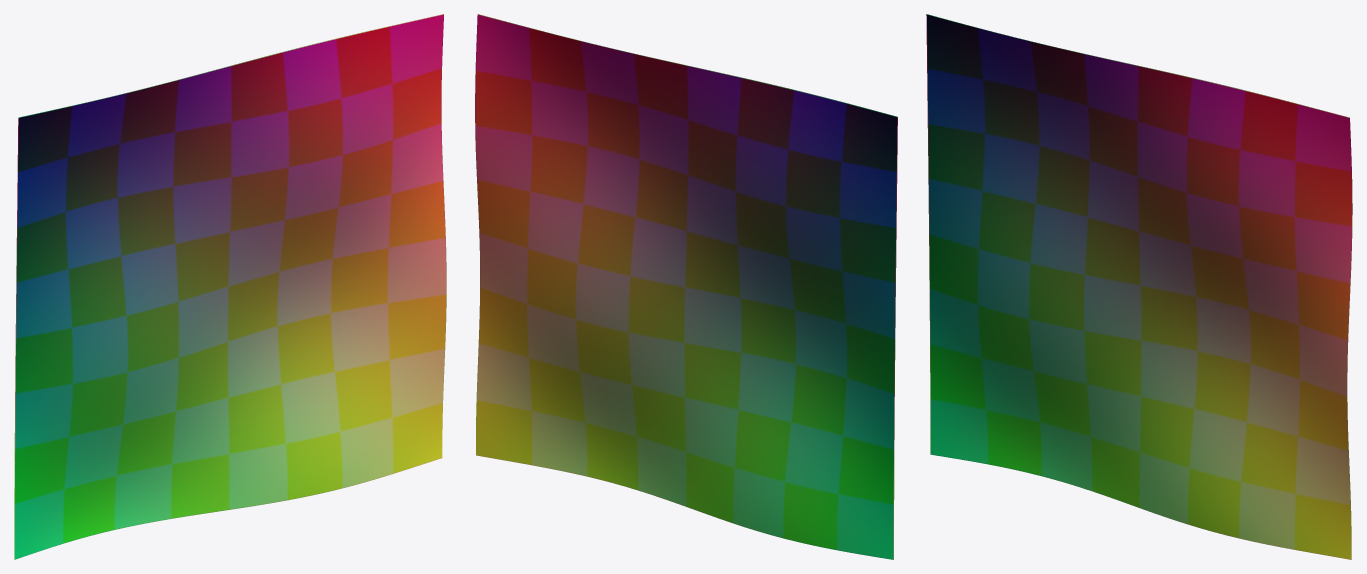
The model's file is Tile_+000_+016.obj.
3 renders of one model, left to right at view 1: azimuth 30°, elevation 25°; view 2: azimuth 150°, elevation 25°; view 3: azimuth 330°, elevation 25°, orthographic.
Bounding box in the file's own units: 100 × 100 × 6.39.
